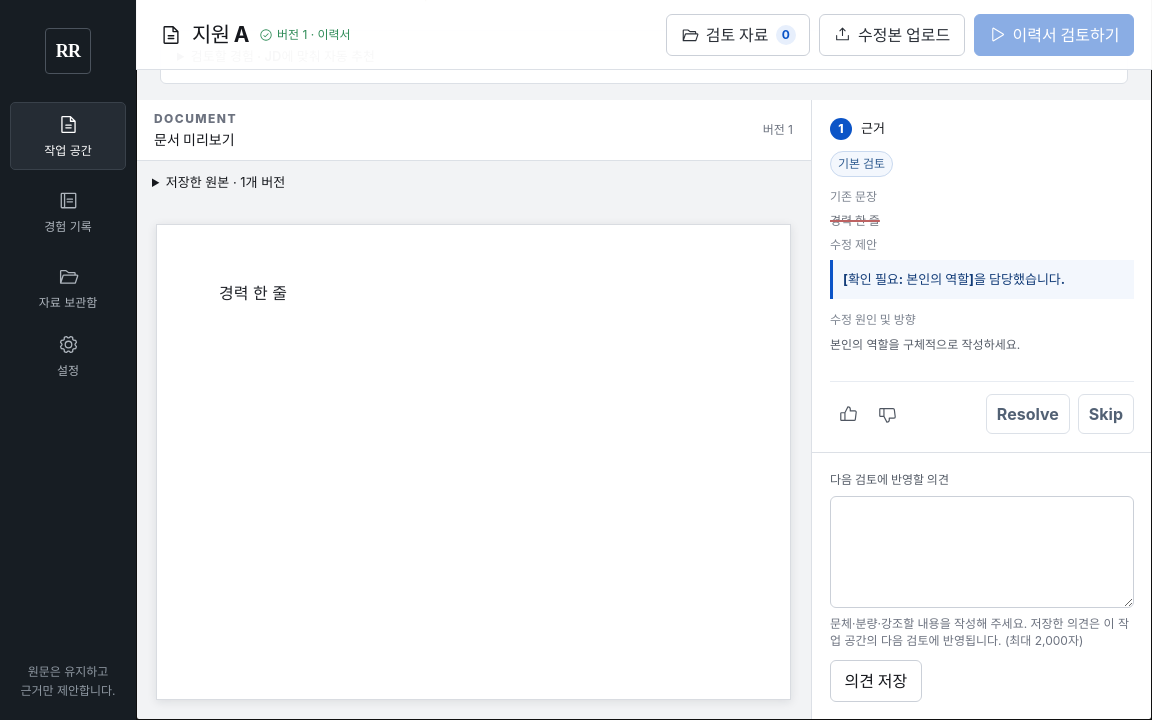
Scenario: hides skipped cards while retaining their exclusion memory
(page scrolled)
expect the text "본인의 역할을 구체적으로 작성하세요." is shown: met, box x1=830 y1=337 x2=1020 y2=352
Click the button with aria-label "제안 1 Skip" at (1106,414), box x1=1078 y1=394 x2=1134 y2=434
(page scrolled)
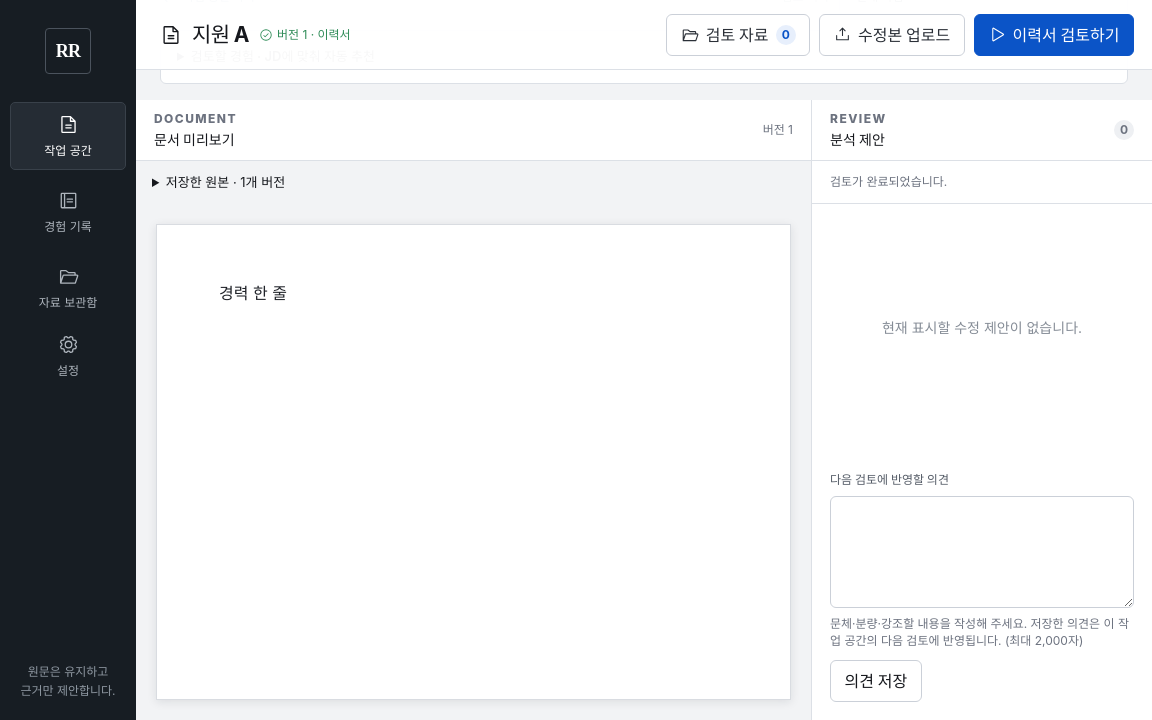
expect the text "본인의 역할을 구체적으로 작성하세요." is gone: met
